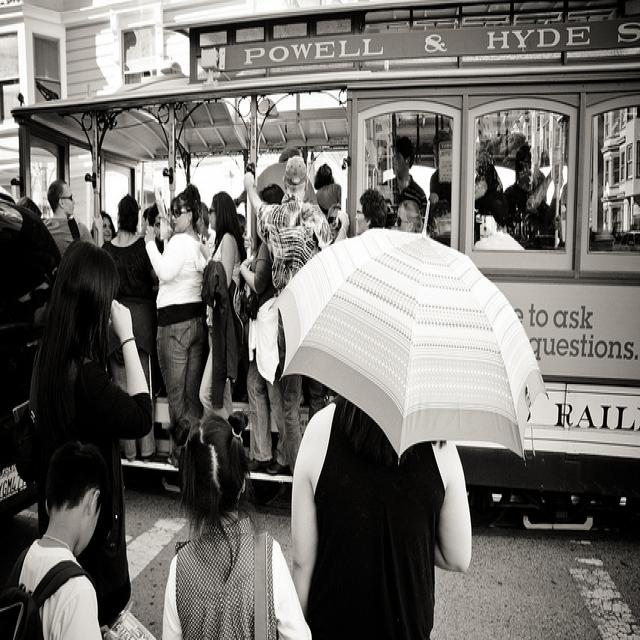Vehicle: (14, 3, 640, 503), (0, 190, 64, 470)
